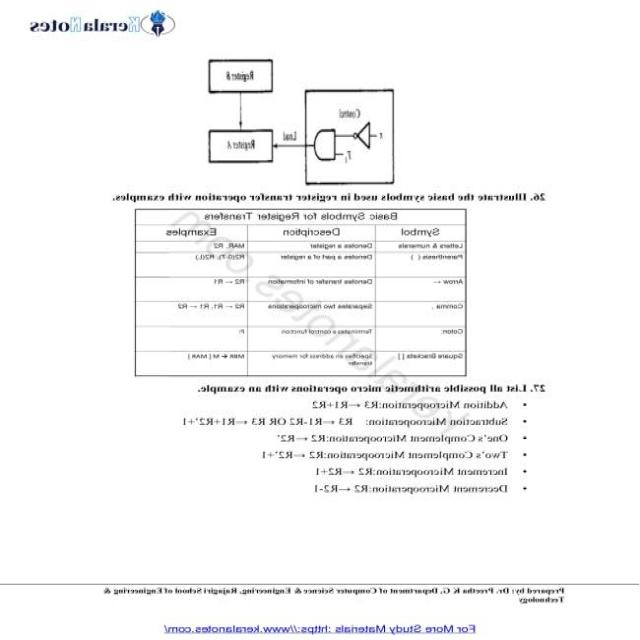Figure Detection - v3 Dataset Version2: (194, 46, 416, 190)
